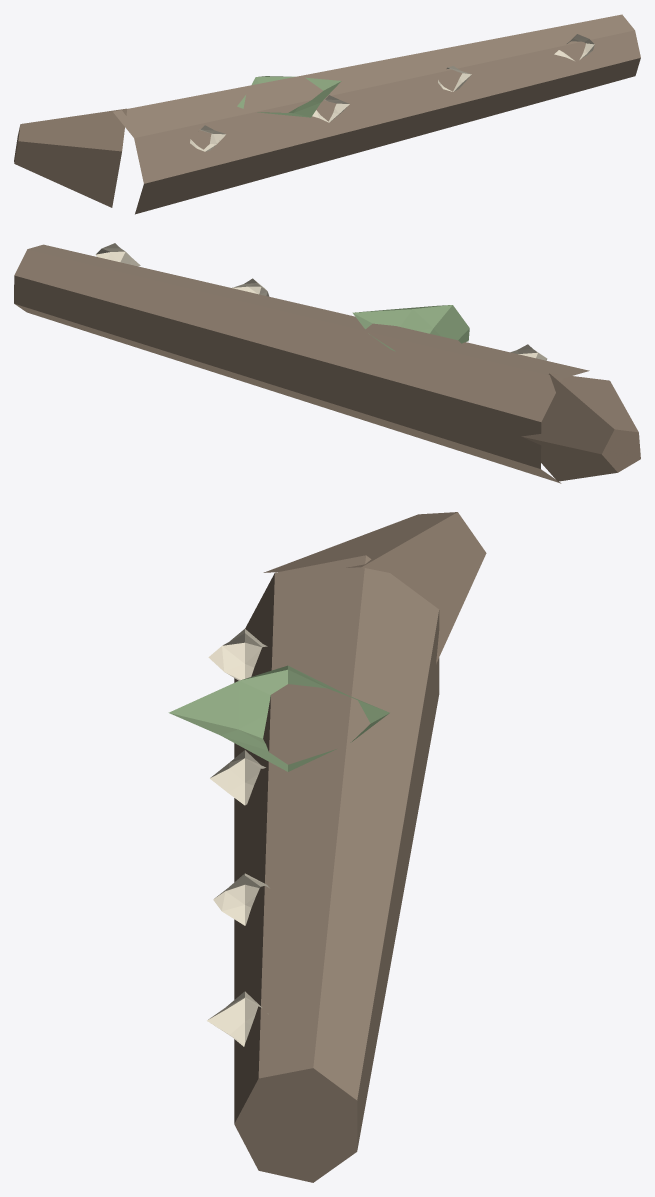
The model's file is log_v11.glb.
3 renders of one model, top to bottom at view 1: azimuth 30°, elevation 25°; view 2: azimuth 150°, elevation 25°; view 3: azimuth 270°, elevation 25°, orthographic. The views are drawn at different scales.
Parts seen in each view (by area): view 1: lod0; view 2: lod0; view 3: lod0.
Part boxes in pixels (x1,y1,x2,y2): lod0: (14, 14, 640, 214); lod0: (14, 243, 640, 483); lod0: (168, 512, 486, 1182).
Size of what is drawn, in the model's own units: 3.98 by 0.6935 by 0.9435.
